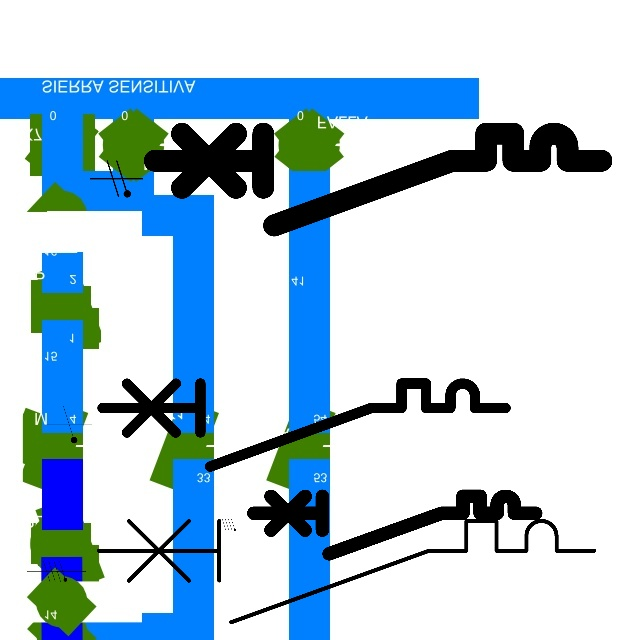interruptor_termomagnetico: (85, 508, 606, 635), (143, 122, 613, 237), (92, 373, 516, 477), (246, 489, 542, 561)
